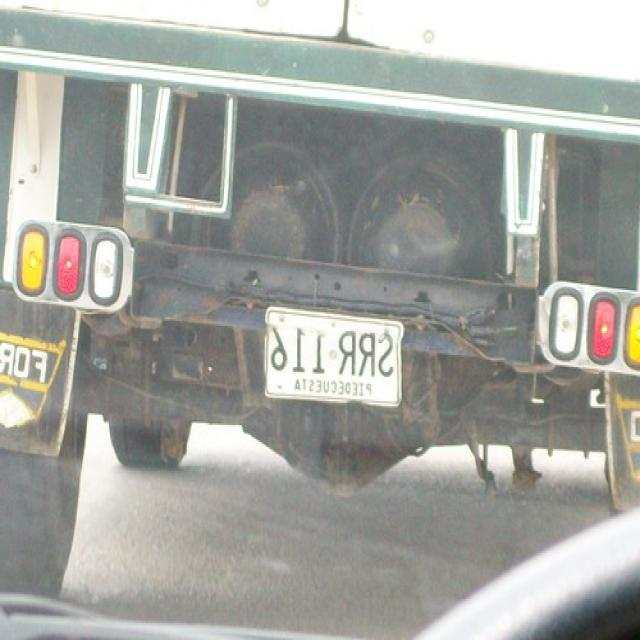placas: (267, 315, 399, 379)
